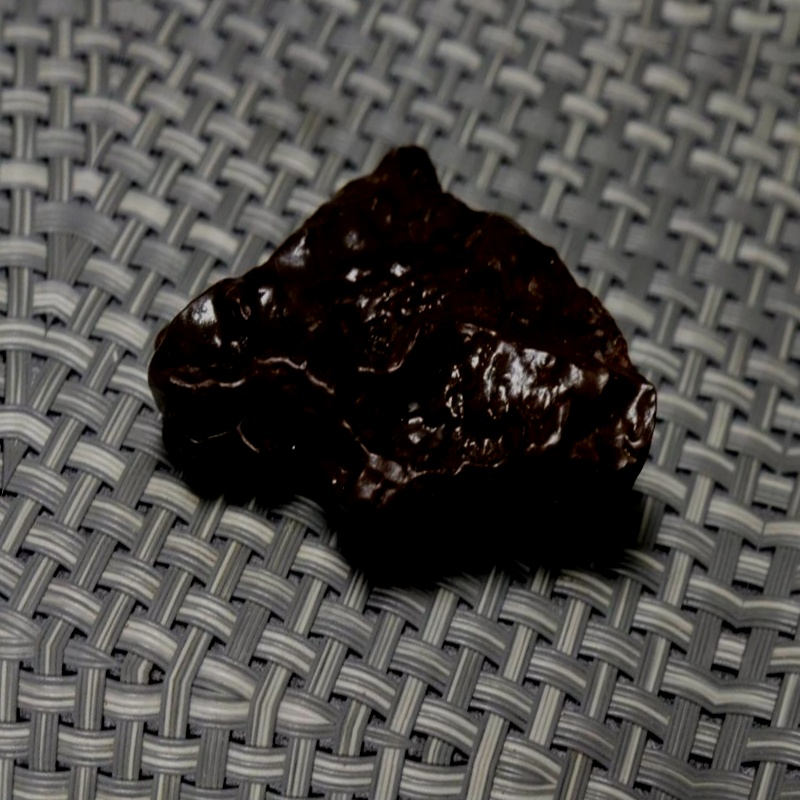halobolite: (105, 83, 724, 617)
